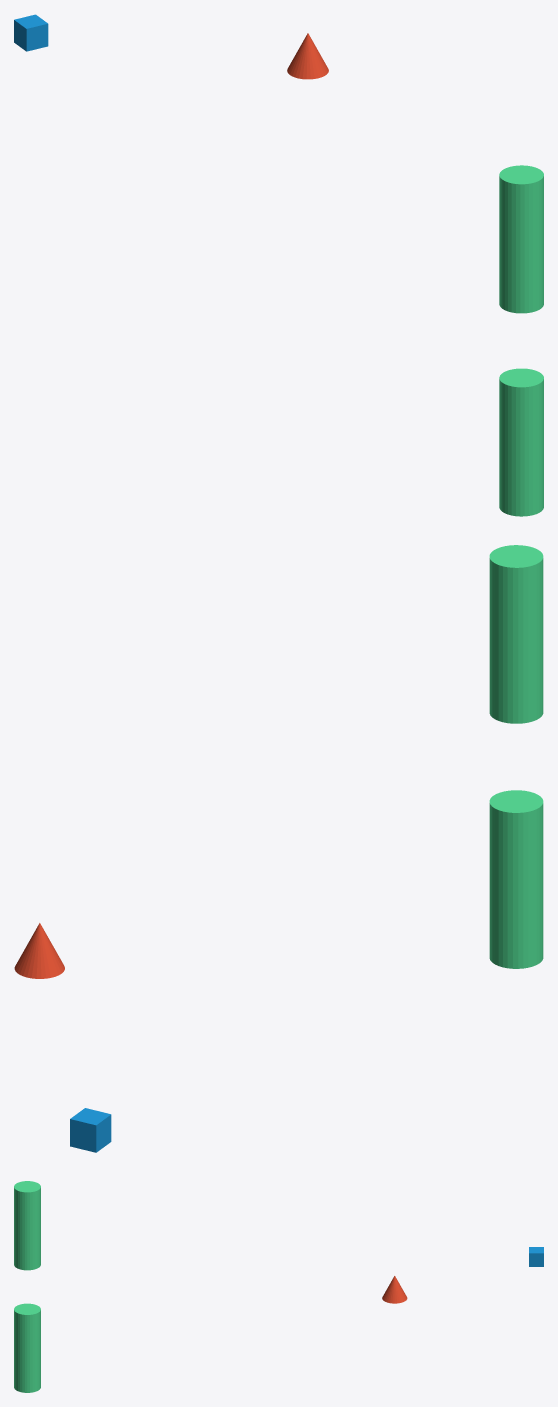
The picture shows the model from 3 angles, top to bottom: view 1: azimuth 30°, elevation 25°; view 2: azimuth 150°, elevation 25°; view 3: azimuth 270°, elevation 25°; orthographic projection. The views are drawn at different scales.
Visible parts, largest first — view 1: the-other-side, welcome, cone, cube; view 2: welcome, the-other-side, cone, cube; view 3: welcome, the-other-side, cone, cube.
Boxes of the visible parts, box(x1,y1,x2,y2) form: the-other-side: box(499, 368, 543, 516); welcome: box(499, 165, 543, 313); cone: box(287, 33, 328, 79); cube: box(14, 14, 48, 51); welcome: box(489, 545, 543, 723); the-other-side: box(489, 790, 543, 968); cone: box(14, 923, 64, 978); cube: box(70, 1108, 111, 1152); welcome: box(14, 1181, 40, 1270); the-other-side: box(14, 1303, 40, 1392); cone: box(382, 1276, 407, 1303); cube: box(529, 1247, 543, 1266).
Size of the model in its own units: 3.05 by 5.14 by 12.32.
